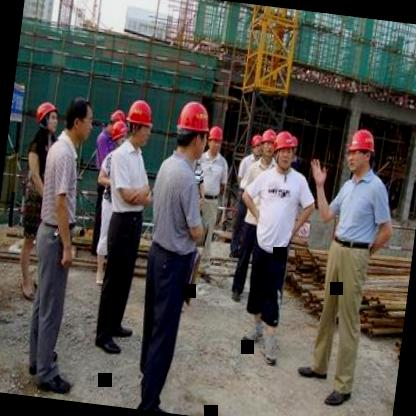head: (61, 95, 96, 143)
helmet: (170, 99, 212, 157), (342, 126, 379, 178), (121, 96, 158, 148), (270, 127, 300, 168), (106, 118, 130, 154), (32, 101, 58, 134), (206, 125, 226, 158), (260, 129, 276, 161), (247, 133, 264, 160)
